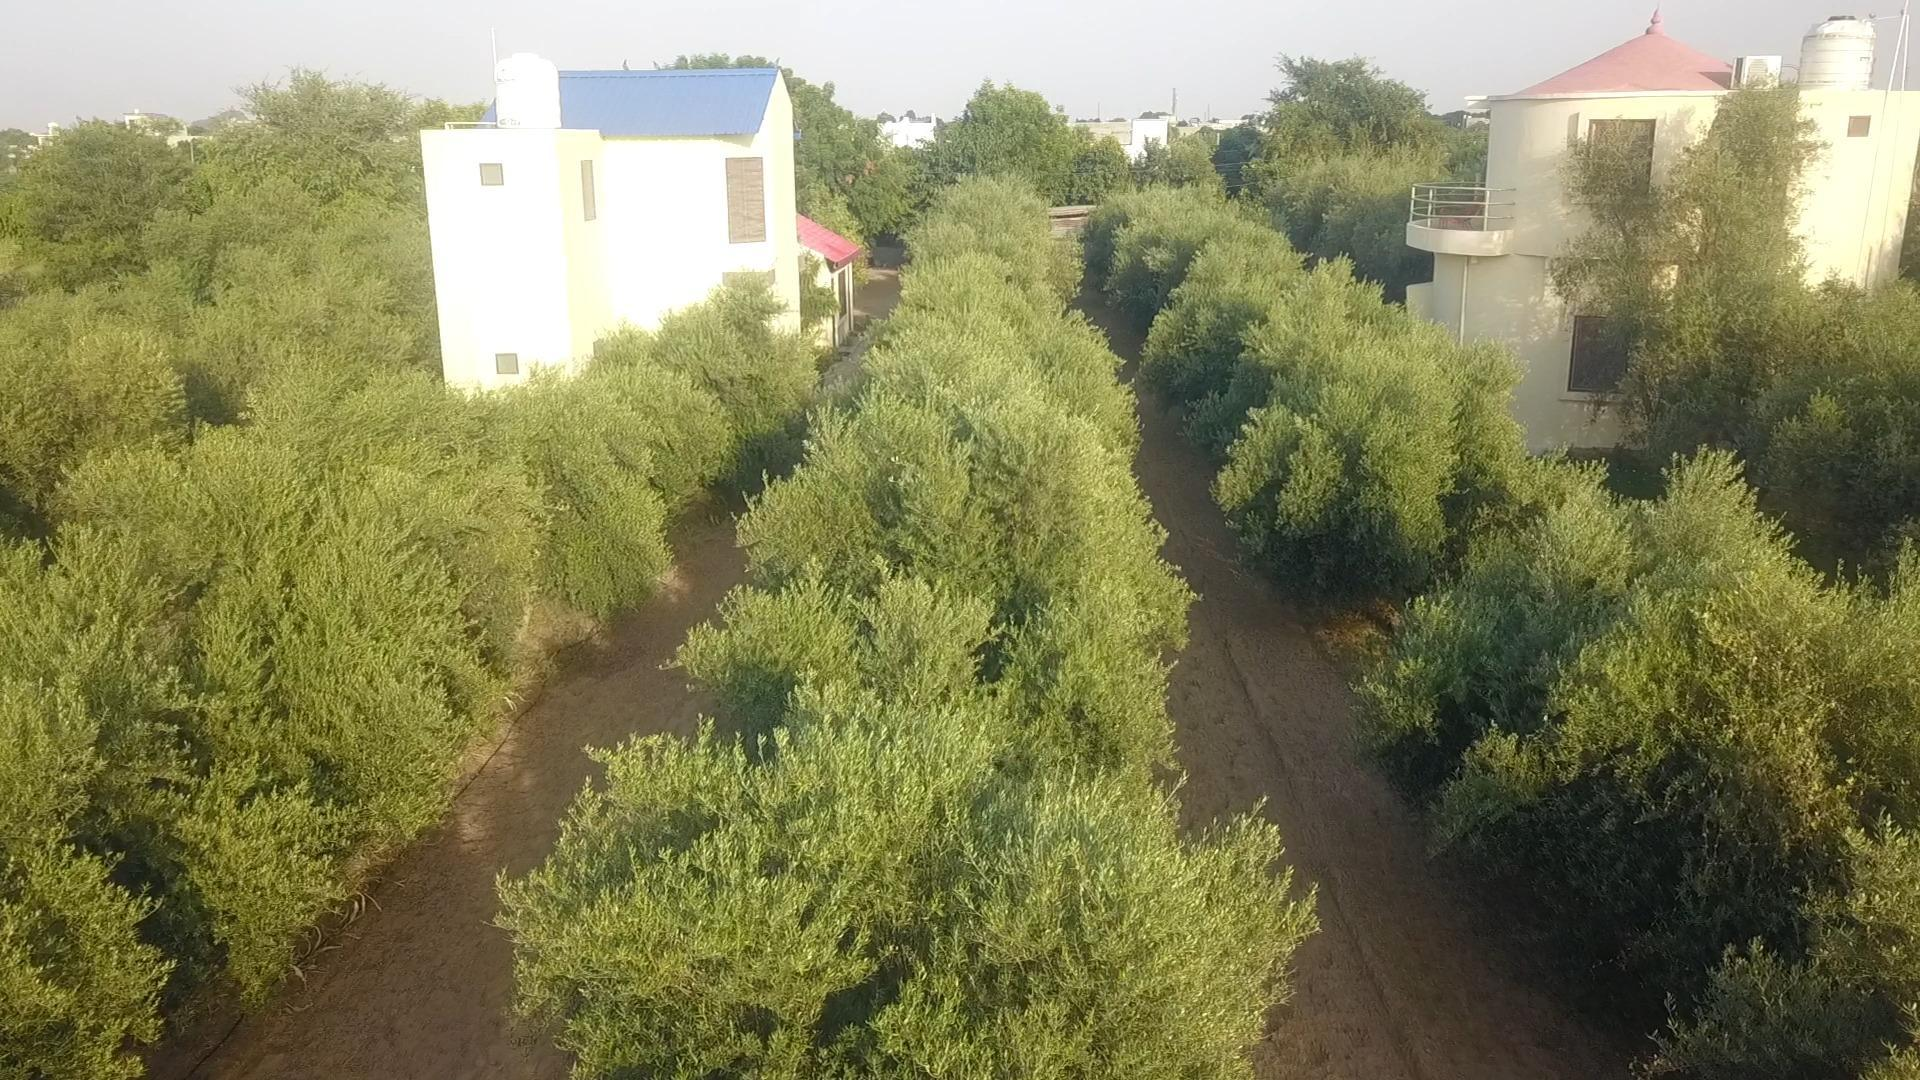canopy: (0, 179, 1316, 1079), (1102, 187, 1919, 1075)
road: (1134, 394, 1626, 1079), (153, 522, 741, 1079)
